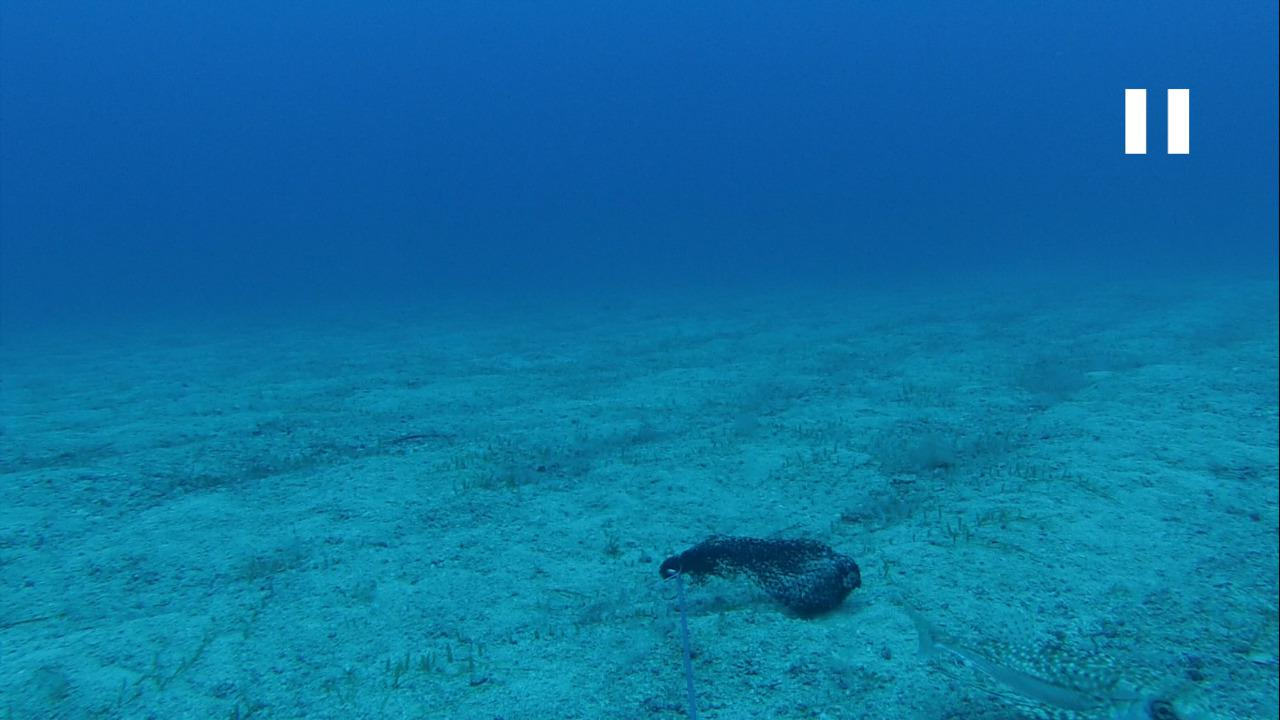dactylopterus: (891, 589, 1208, 719)
